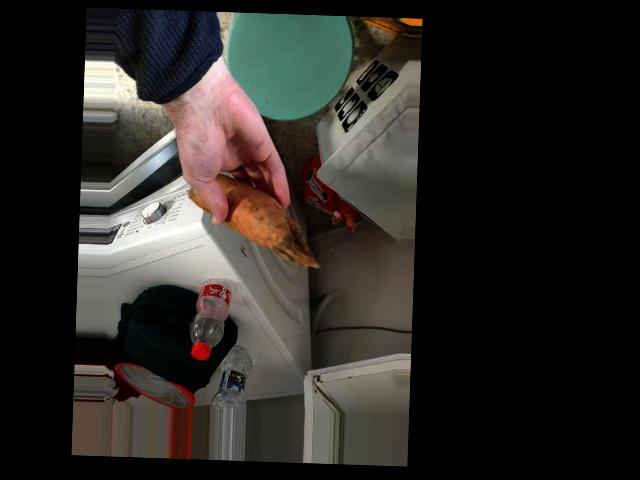sweet_potato: (200, 164, 288, 250)
